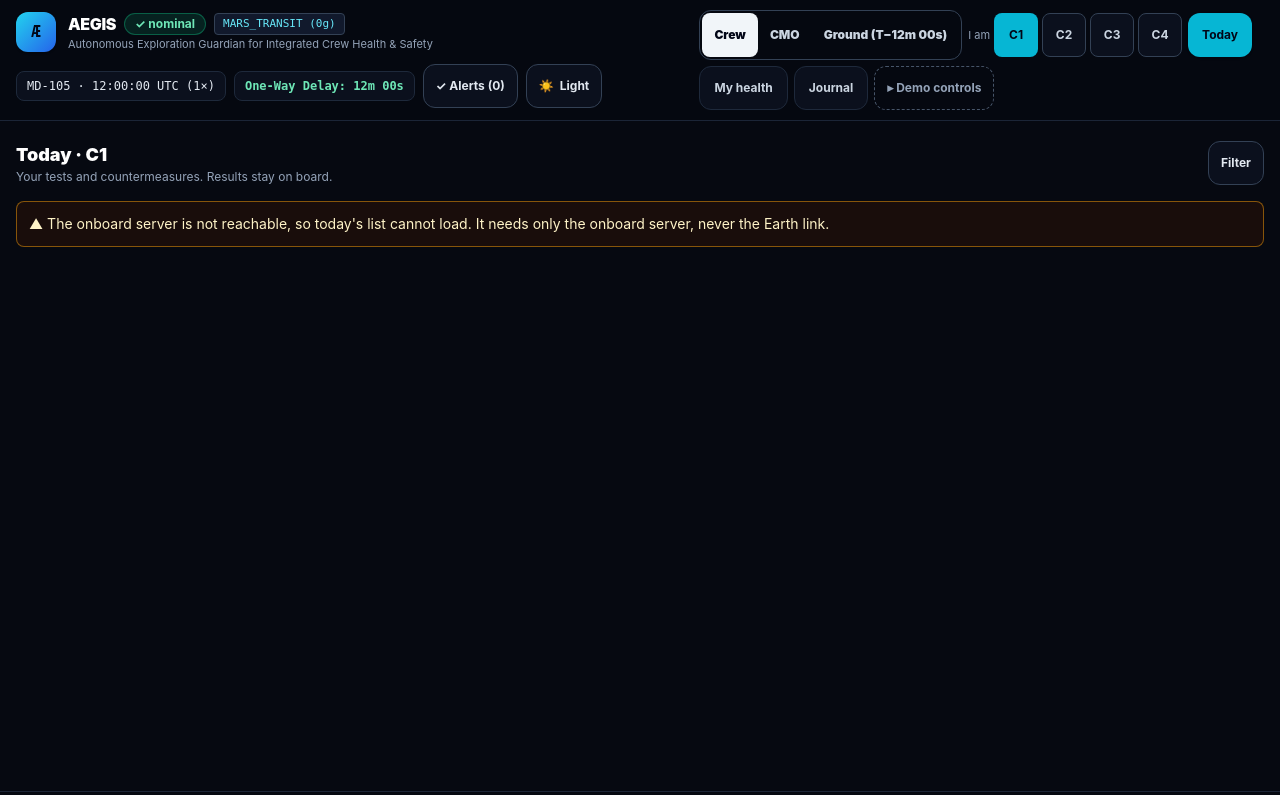
Test: S-1 roles › the crew member's own page has no CMO sections and starts with the charts folded
Click the button "My health" at (744, 88), box [699, 66, 788, 110]
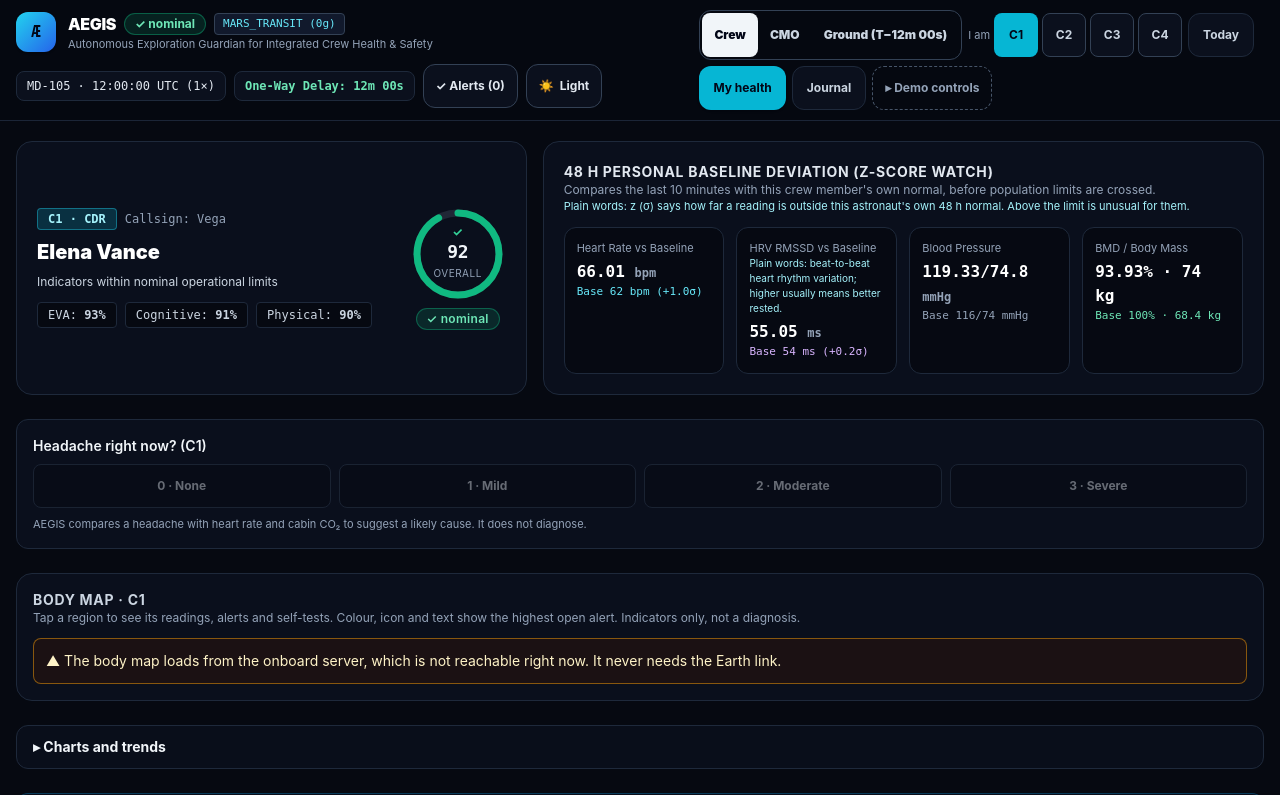
Click the button "▸ Charts and trends" at (105, 746), box [16, 725, 1264, 769]
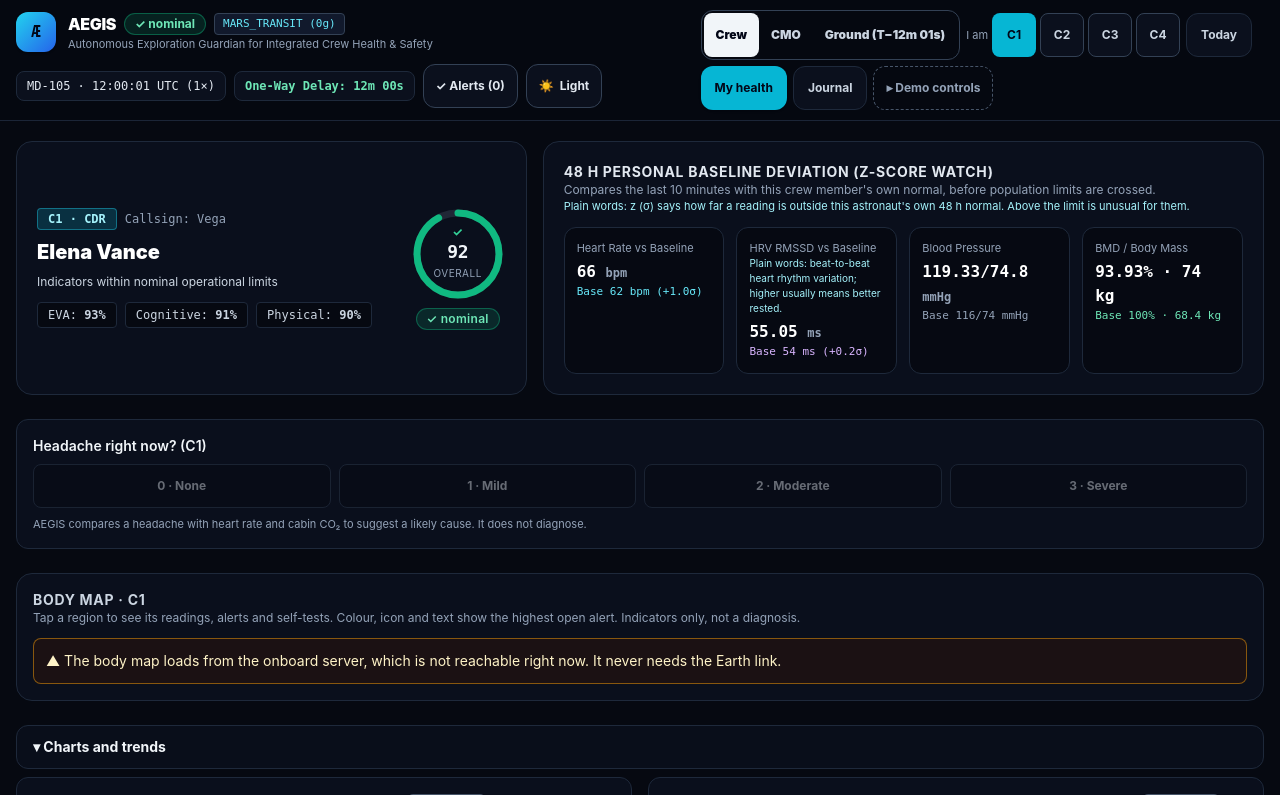
Now the button "▾ Charts and trends" is expanded, box [16, 725, 1264, 769]
